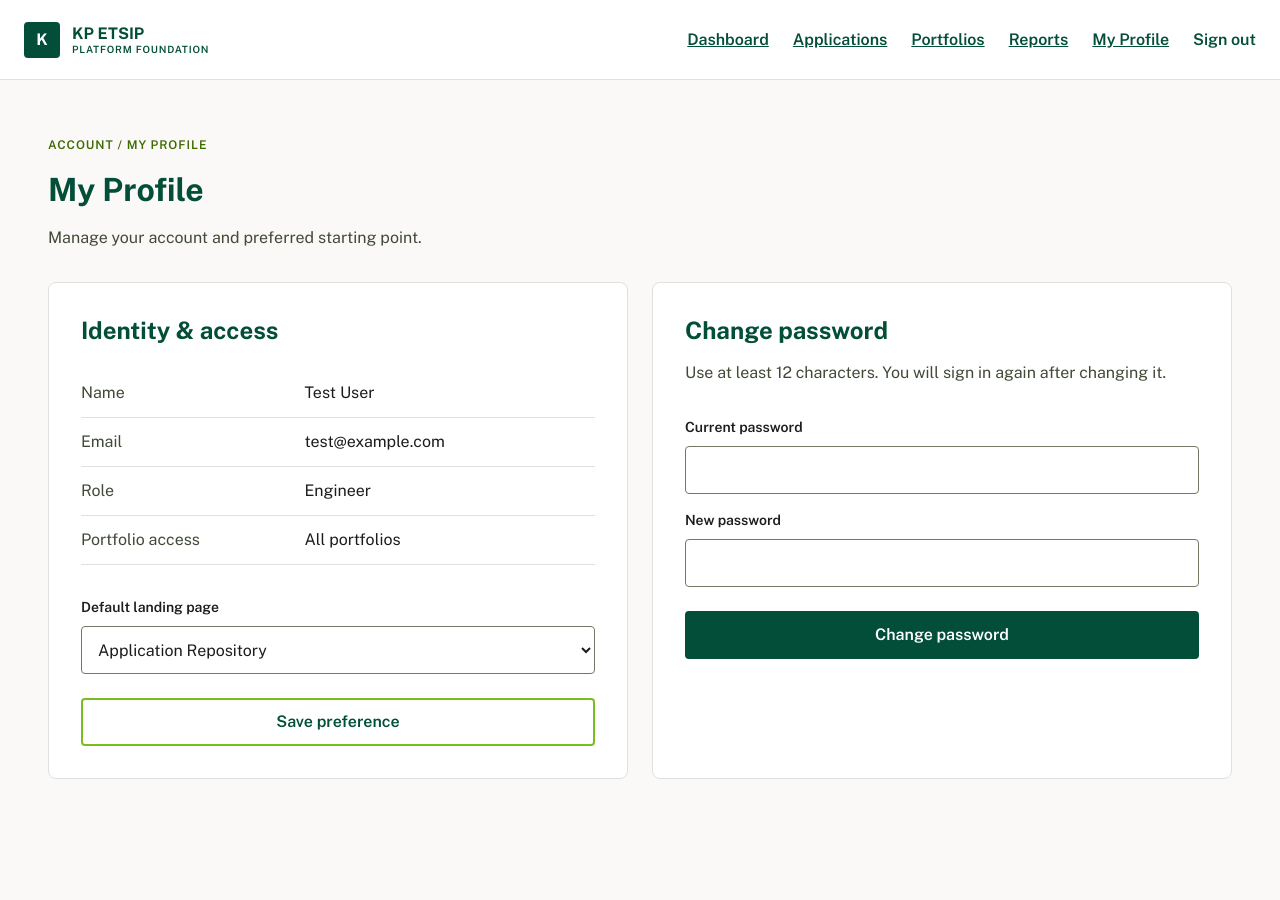
signs out locally when server logout succeeds=true
Expected: the text "test@example.com" is shown, [304, 432, 445, 451]
Click the button "Sign out".
click(1224, 40)  # box [1193, 18, 1256, 62]
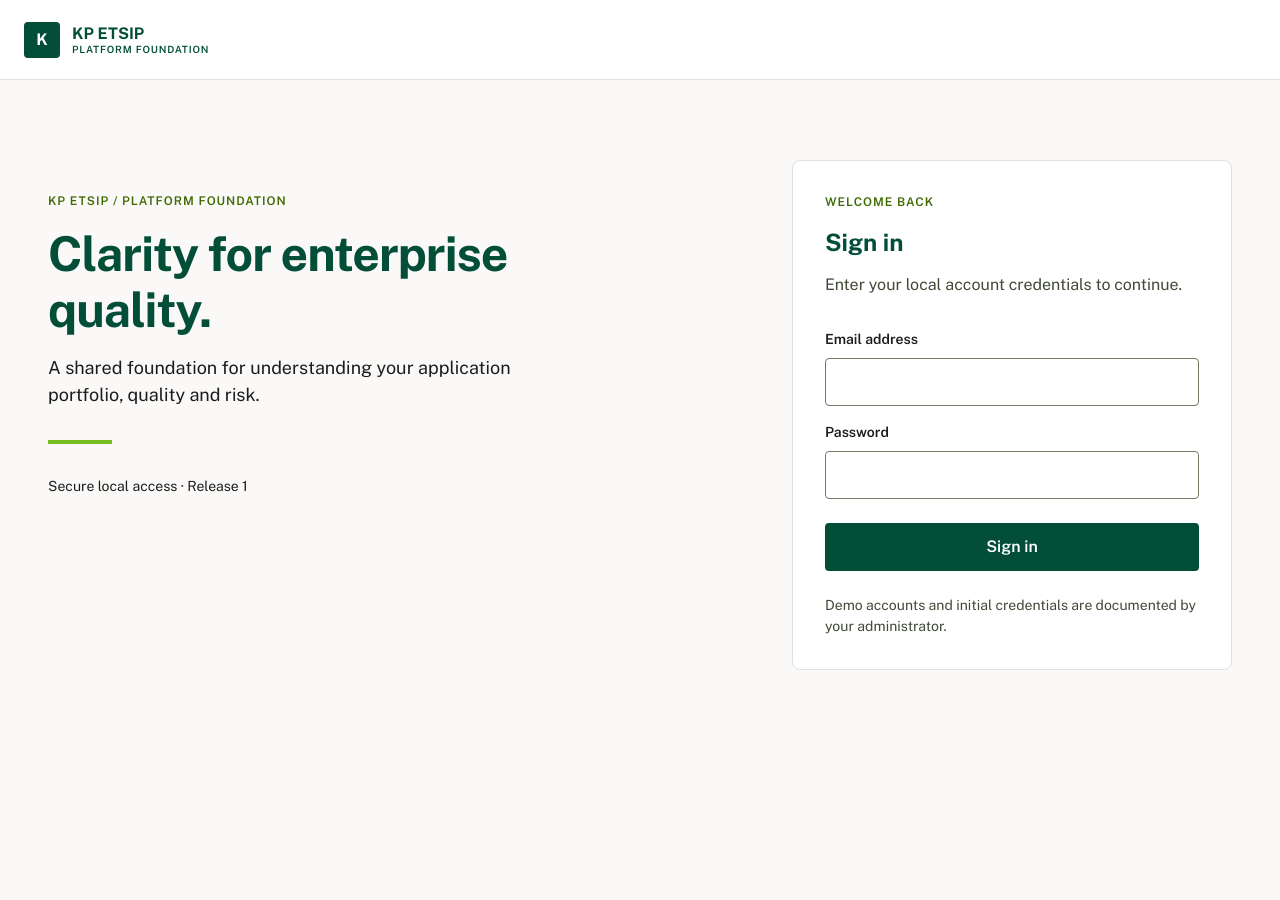
Result: the heading "Sign in" is shown at [825, 228, 903, 256]
